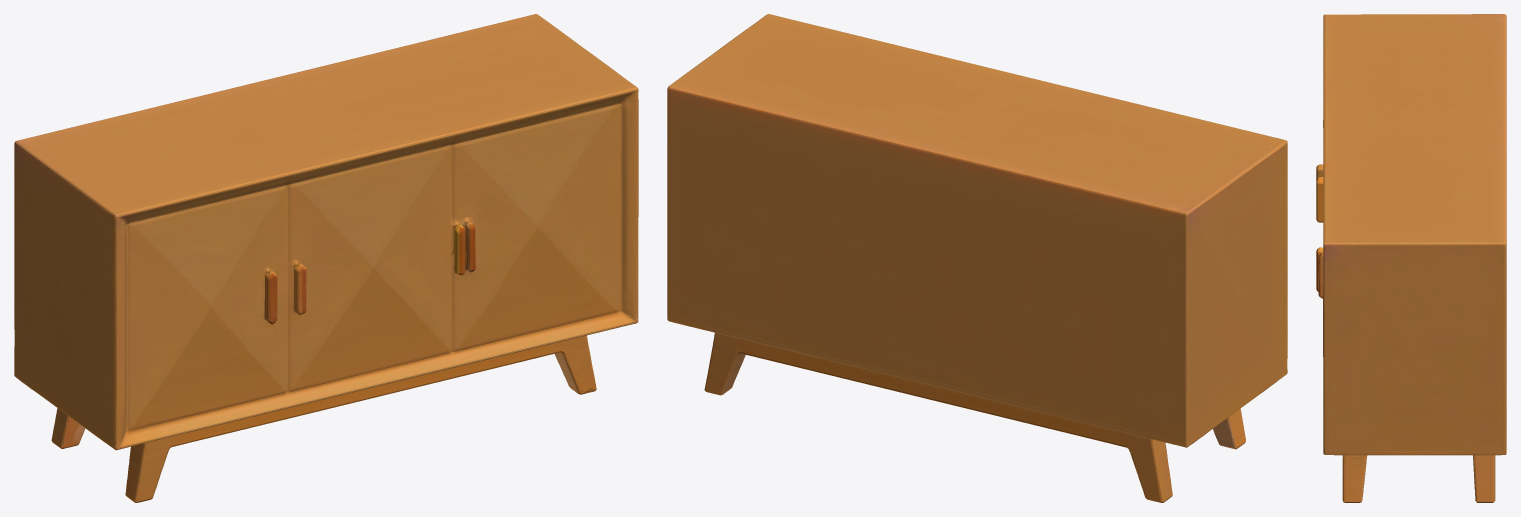
Rendered from sideboard.glb.
3 views of the same model, side by side, from view 1: azimuth 30°, elevation 25°; view 2: azimuth 150°, elevation 25°; view 3: azimuth 270°, elevation 25° (orthographic). The views are drawn at different scales.
Visible parts, largest first — view 1: tmpvu6xogsr.ply; view 2: tmpvu6xogsr.ply; view 3: tmpvu6xogsr.ply.
Boxes of the visible parts, left/top/right/bottom form: tmpvu6xogsr.ply: left=14, top=14, right=638, bottom=502; tmpvu6xogsr.ply: left=667, top=14, right=1287, bottom=502; tmpvu6xogsr.ply: left=1316, top=14, right=1506, bottom=502.
Size of the model in its own units: 1.48 by 0.82 by 0.5163.
Materials: 1 (1 with a texture image).
